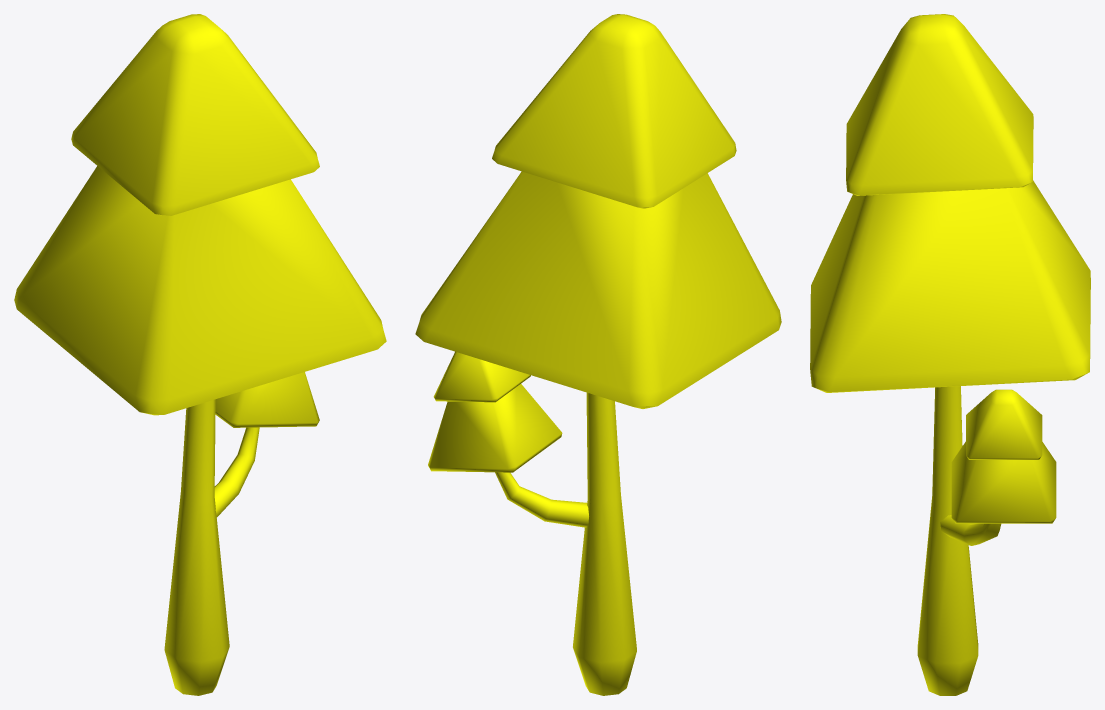
Rendered from kaykit-tree-4-a-color-1.glb.
The picture shows the model from 3 angles, left to right: view 1: azimuth 30°, elevation 25°; view 2: azimuth 150°, elevation 25°; view 3: azimuth 270°, elevation 25°; orthographic projection.
Visible parts, largest first — view 1: Tree_4_A_Color1; view 2: Tree_4_A_Color1; view 3: Tree_4_A_Color1.
Part boxes in pixels (x1,y1,x2,y2): Tree_4_A_Color1: [14, 14, 386, 695]; Tree_4_A_Color1: [415, 14, 781, 695]; Tree_4_A_Color1: [810, 14, 1090, 695].
Bounding box in the file's own units: 2.01 × 5.27 × 2.
